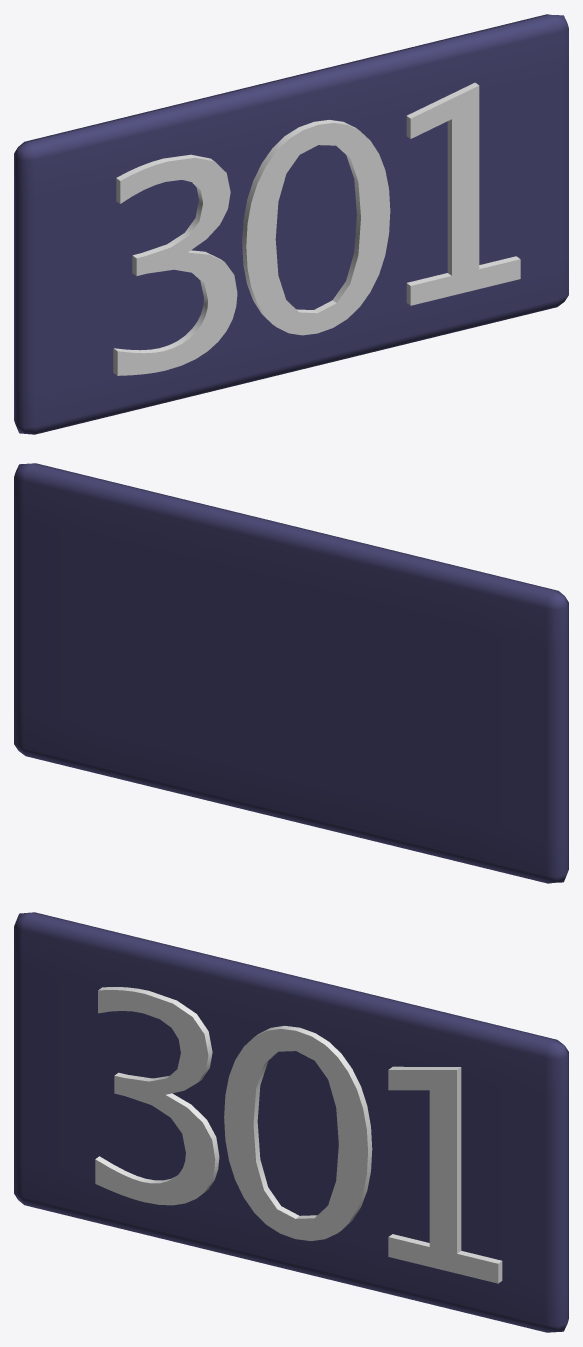
The model's file is room_301.fbx.
The picture shows the model from 3 angles, top to bottom: view 1: azimuth 30°, elevation 25°; view 2: azimuth 150°, elevation 25°; view 3: azimuth 330°, elevation 25°; orthographic projection.
Visible parts, largest first — view 1: pCube7; view 2: pCube7; view 3: pCube7.
Part boxes in pixels (x1,y1,x2,y2): pCube7: [14, 14, 568, 434]; pCube7: [14, 463, 568, 883]; pCube7: [14, 912, 568, 1332].
Bounding box in the file's own units: 2.21 × 1.11 × 0.1252.
